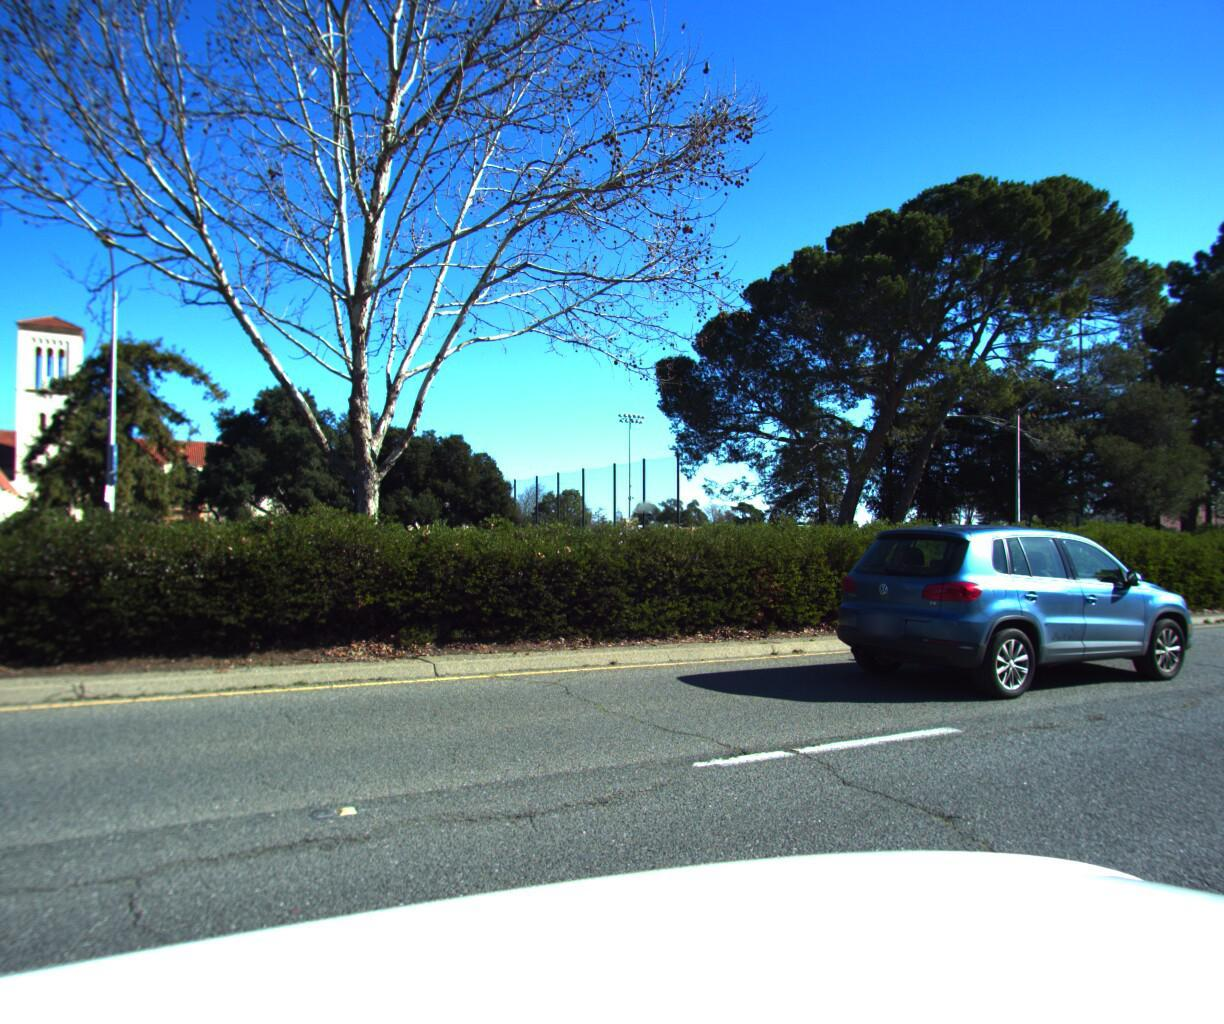car: (812, 511, 1209, 704)
